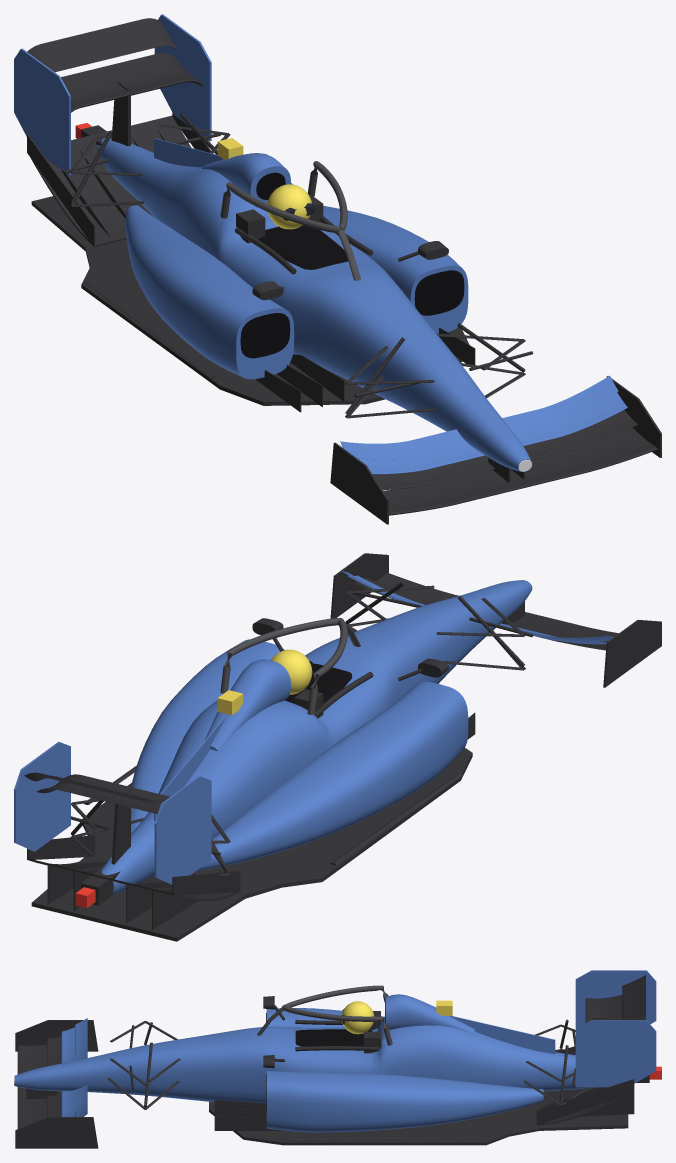
File: f1_2026_body.glb
3 renders of one model, top to bottom at view 1: azimuth 30°, elevation 25°; view 2: azimuth 150°, elevation 25°; view 3: azimuth 270°, elevation 25°, orthographic. The views are drawn at different scales.
Visible parts, largest first — view 1: body_Livery, body_Carbon, body_Inlet, body_Halo, body_Helmet; view 2: body_Livery, body_Carbon, body_Halo, body_Helmet, body_Inlet; view 3: body_Livery, body_Carbon, body_Halo, body_Inlet, body_Helmet.
Boxes of the visible parts, left/top/right/bottom form: body_Livery: left=14, top=14, right=627, bottom=474; body_Carbon: left=27, top=18, right=661, bottom=524; body_Inlet: left=240, top=172, right=464, bottom=358; body_Halo: left=220, top=161, right=360, bottom=280; body_Helmet: left=267, top=184, right=311, bottom=229; body_Livery: left=14, top=570, right=613, bottom=894; body_Carbon: left=24, top=553, right=661, bottom=941; body_Halo: left=220, top=618, right=360, bottom=714; body_Helmet: left=271, top=649, right=312, bottom=694; body_Inlet: left=285, top=663, right=352, bottom=703; body_Livery: left=14, top=970, right=656, bottom=1132; body_Carbon: left=15, top=975, right=649, bottom=1148; body_Halo: left=257, top=985, right=392, bottom=1045; body_Inlet: left=266, top=1001, right=385, bottom=1112; body_Helmet: left=342, top=1001, right=373, bottom=1034.
Size of the model in its own units: 1.89 by 0.9683 by 5.3.
